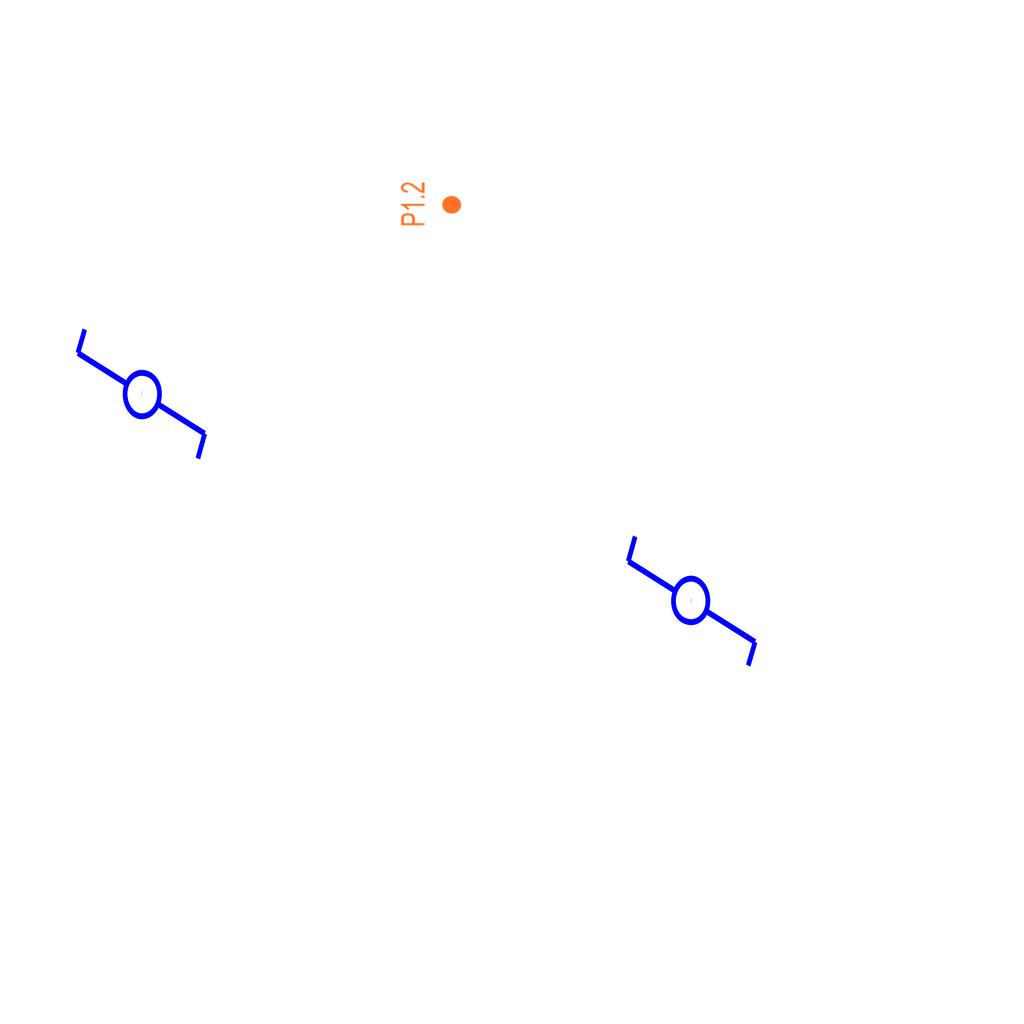Downlight_LED_Einbauleuchten_Flur: (399, 181, 463, 227)
Wechselschalter: (68, 324, 212, 481), (621, 514, 765, 671)
